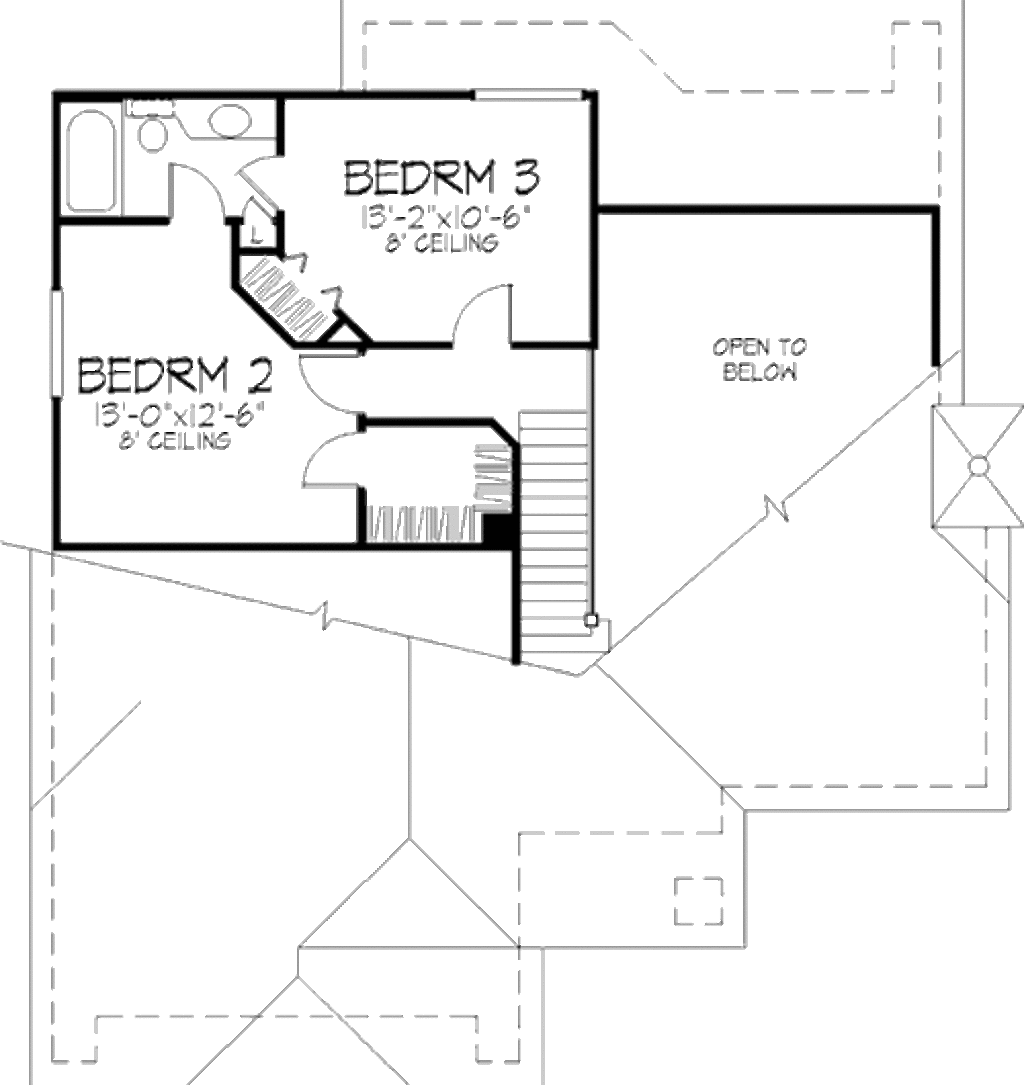door: (293, 338, 368, 415), (163, 161, 232, 229), (452, 279, 517, 347), (296, 432, 370, 489), (236, 148, 288, 212), (240, 186, 275, 227)
large_sink: (127, 89, 178, 156)
small_sink: (193, 101, 261, 142)
stairs: (512, 410, 614, 656)
tub: (65, 97, 119, 214)
window: (53, 289, 68, 404), (473, 91, 583, 101)
